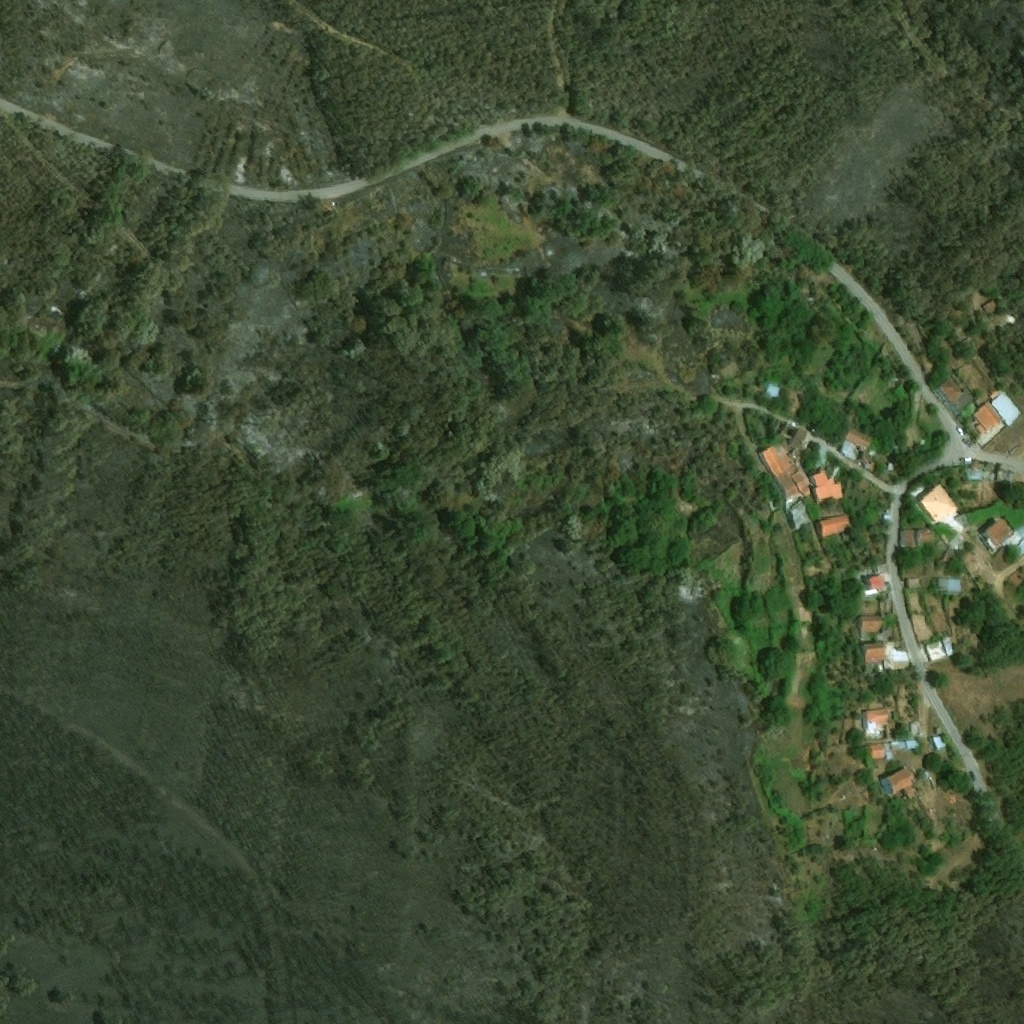0 no-damage: (758, 444, 812, 507), (971, 389, 1022, 436), (916, 482, 961, 526), (880, 766, 918, 800), (981, 517, 1015, 552), (810, 471, 843, 503), (937, 376, 966, 406), (845, 426, 878, 452), (785, 501, 812, 532), (899, 529, 937, 549), (819, 515, 852, 538), (950, 390, 977, 417), (926, 638, 955, 663), (859, 616, 884, 640), (987, 467, 1018, 486), (862, 575, 887, 597), (864, 709, 890, 730), (789, 427, 810, 452), (816, 502, 845, 520), (811, 444, 831, 467), (863, 643, 886, 662), (1003, 533, 1023, 553), (764, 381, 783, 400), (939, 578, 962, 593), (839, 441, 858, 459), (983, 299, 1002, 317), (943, 546, 958, 566), (1010, 542, 1023, 562), (879, 343, 894, 359), (965, 467, 981, 482), (869, 746, 886, 760), (859, 452, 873, 468), (885, 742, 906, 752), (932, 736, 948, 749), (906, 579, 924, 590), (906, 741, 921, 751), (887, 463, 895, 472), (936, 728, 943, 735)
